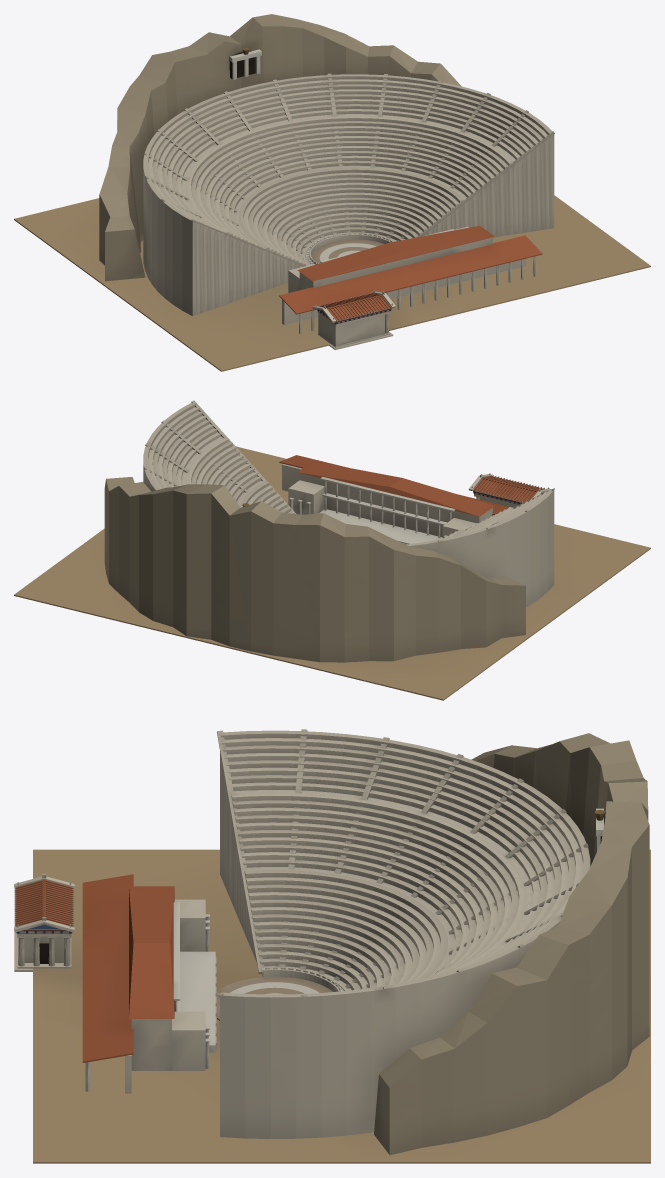
File: theatre-dionysus-roman.glb
3 views of the same model, one above another, from view 1: azimuth 30°, elevation 25°; view 2: azimuth 150°, elevation 25°; view 3: azimuth 270°, elevation 25° (orthographic). The views are drawn at different scales.
Parts seen in each view (by area): view 1: p1_seats, p0_cavea, p3_sanctuary, p2_stage; view 2: p0_cavea, p1_seats, p2_stage, p3_sanctuary; view 3: p0_cavea, p1_seats, p2_stage, p3_sanctuary.
Part boxes in pixels (x1=…): p1_seats: x1=143, y1=73, x2=554, y2=316; p0_cavea: x1=14, y1=14, x2=650, y2=371; p3_sanctuary: x1=229, y1=47, x2=542, y2=349; p2_stage: x1=288, y1=225, x2=494, y2=292; p0_cavea: x1=14, y1=446, x2=650, y2=700; p1_seats: x1=143, y1=400, x2=554, y2=607; p2_stage: x1=288, y1=461, x2=494, y2=544; p3_sanctuary: x1=240, y1=455, x2=551, y2=516; p0_cavea: x1=33, y1=733, x2=650, y2=1163; p1_seats: x1=217, y1=729, x2=590, y2=1138; p2_stage: x1=129, y1=886, x2=216, y2=1070; p3_sanctuary: x1=14, y1=808, x2=605, y2=1093.
Bounding box in the file's own units: 110 × 36.1 × 94.81.
